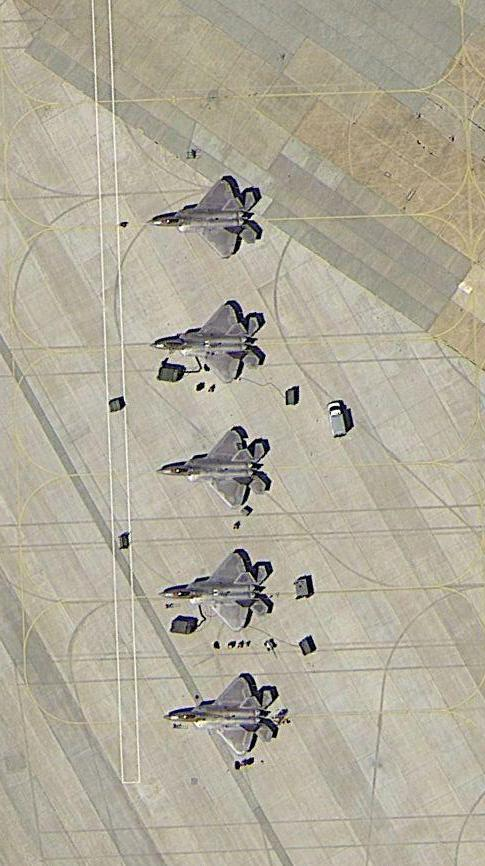F-22: (162, 669, 281, 758), (148, 300, 266, 389), (142, 176, 264, 259), (157, 550, 274, 631), (154, 429, 273, 506)
